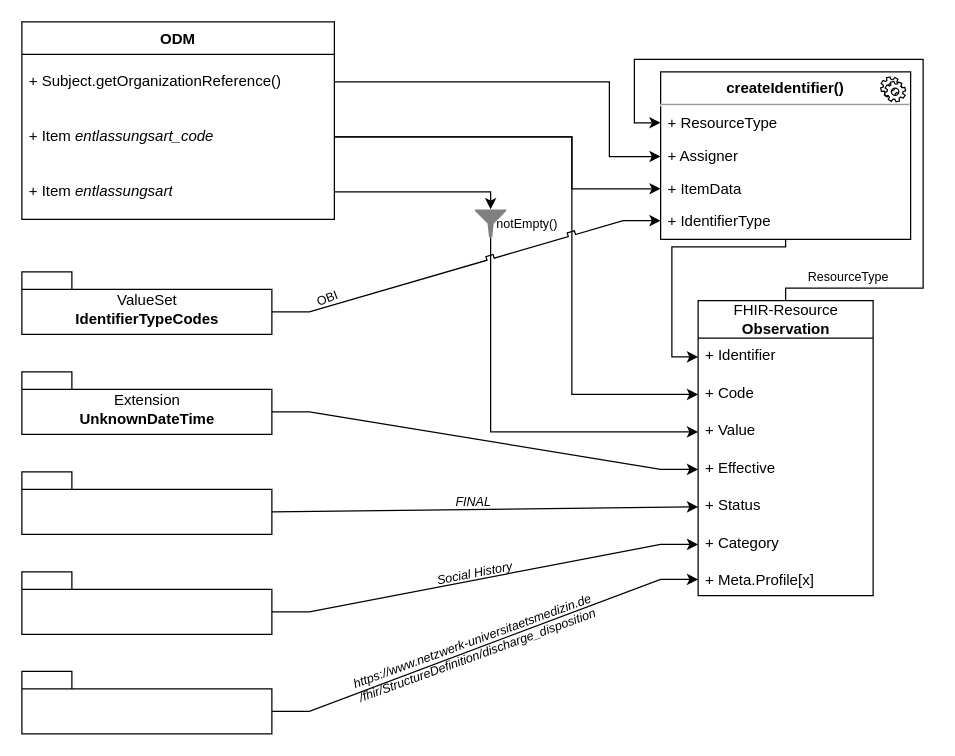
This 955x756 diagram has some shape labels left out. The centre of each missing label's shape, as x and y in pixels:
GECCO Profiles: [146,702]
ValueSet ObservationCategoryCodes: [146,602]
ValueSet ObservationStatus: [146,502]
